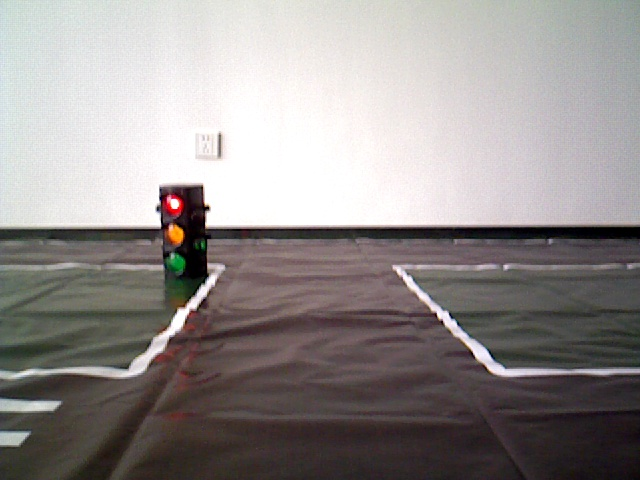red: (162, 188, 205, 278)
